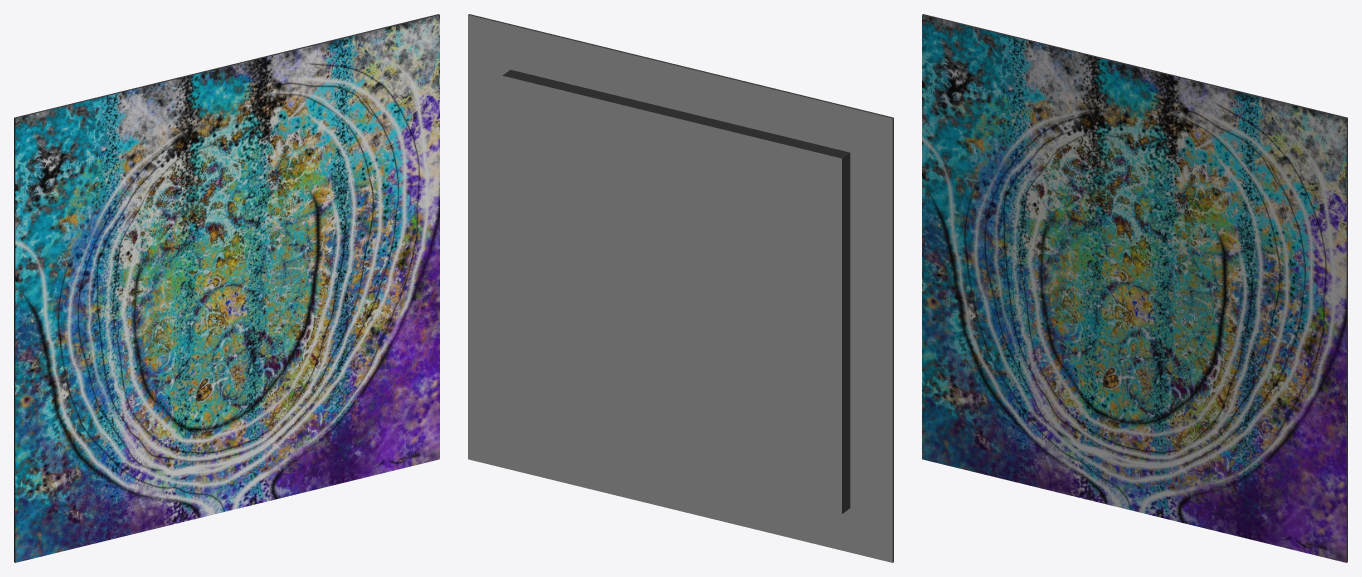
Rendered from va176_moyen_dibond.glb.
3 views of the same model, side by side, from view 1: azimuth 30°, elevation 25°; view 2: azimuth 150°, elevation 25°; view 3: azimuth 330°, elevation 25° (orthographic).
Visible parts, largest first — view 1: va176_moyen_dibond; view 2: va176_moyen_dibond; view 3: va176_moyen_dibond.
Boxes of the visible parts, bbox=[...] form: va176_moyen_dibond: bbox=[14, 14, 439, 562]; va176_moyen_dibond: bbox=[468, 14, 893, 562]; va176_moyen_dibond: bbox=[922, 14, 1347, 562].
Bounding box in the file's own units: 0.6 × 0.6 × 0.023.
4 materials, 1 textured.
